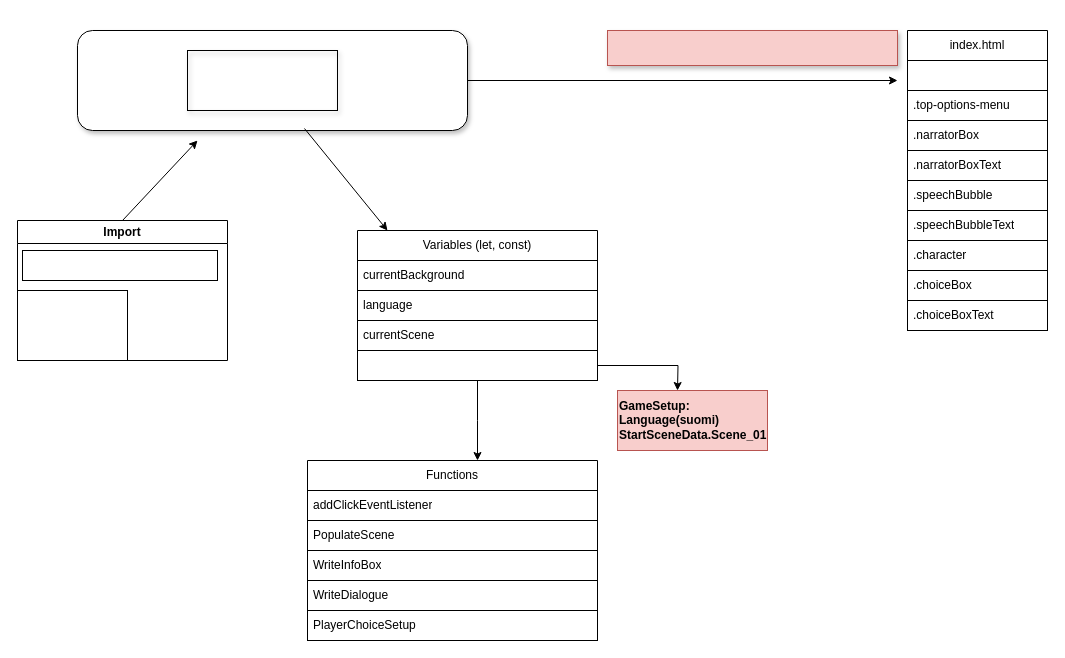
Some shapes in this 1065 by 658 pixel diagram are drawn without their labels. Each missing label, with the centre of its shape:
.game-flex-container: (x=977, y=75)
Game.js: (x=263, y=82)
Language files: - Suomi - Ruotsi -Englanti: (x=72, y=325)
nextScene: (x=477, y=365)
querySelector: (x=753, y=49)
StartSceneData.js: (x=120, y=265)
